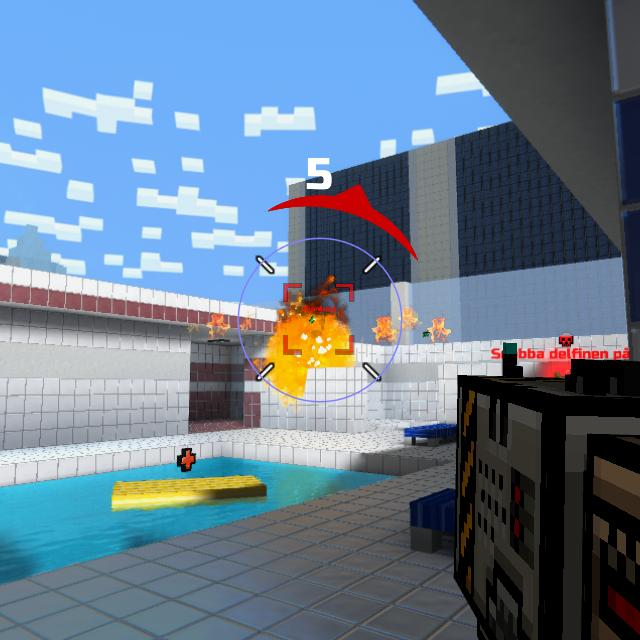Enemy: (550, 369, 569, 378)
